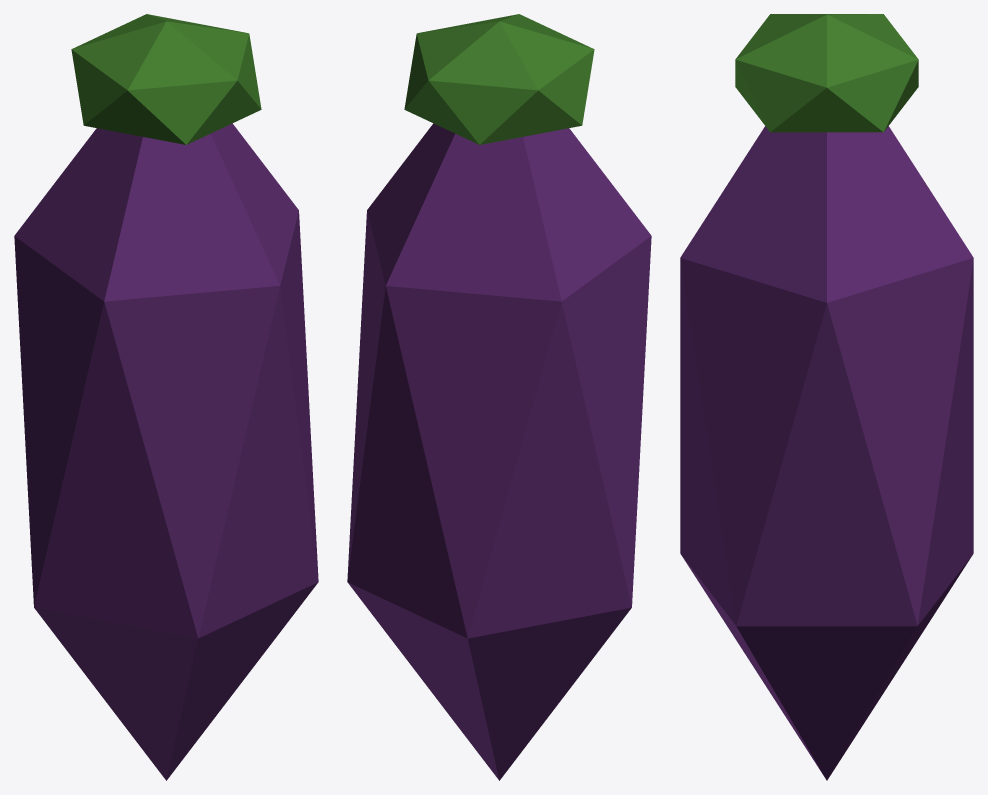
File: f09-hasil-terong.glb
The picture shows the model from 3 angles, left to right: view 1: azimuth 30°, elevation 25°; view 2: azimuth 150°, elevation 25°; view 3: azimuth 270°, elevation 25°; orthographic projection.
Visible parts, largest first — view 1: EX_kebun:terong.001, EX_kebun:kelopak.001; view 2: EX_kebun:terong.001, EX_kebun:kelopak.001; view 3: EX_kebun:terong.001, EX_kebun:kelopak.001.
Boxes of the visible parts, <box> form: EX_kebun:terong.001: <box>14,123,318,780</box>; EX_kebun:kelopak.001: <box>71,14,261,144</box>; EX_kebun:terong.001: <box>347,123,651,780</box>; EX_kebun:kelopak.001: <box>404,14,594,144</box>; EX_kebun:terong.001: <box>680,126,973,780</box>; EX_kebun:kelopak.001: <box>735,14,918,132</box>.
Bounding box in the file's own units: 0.0716 × 0.196 × 0.0681.
